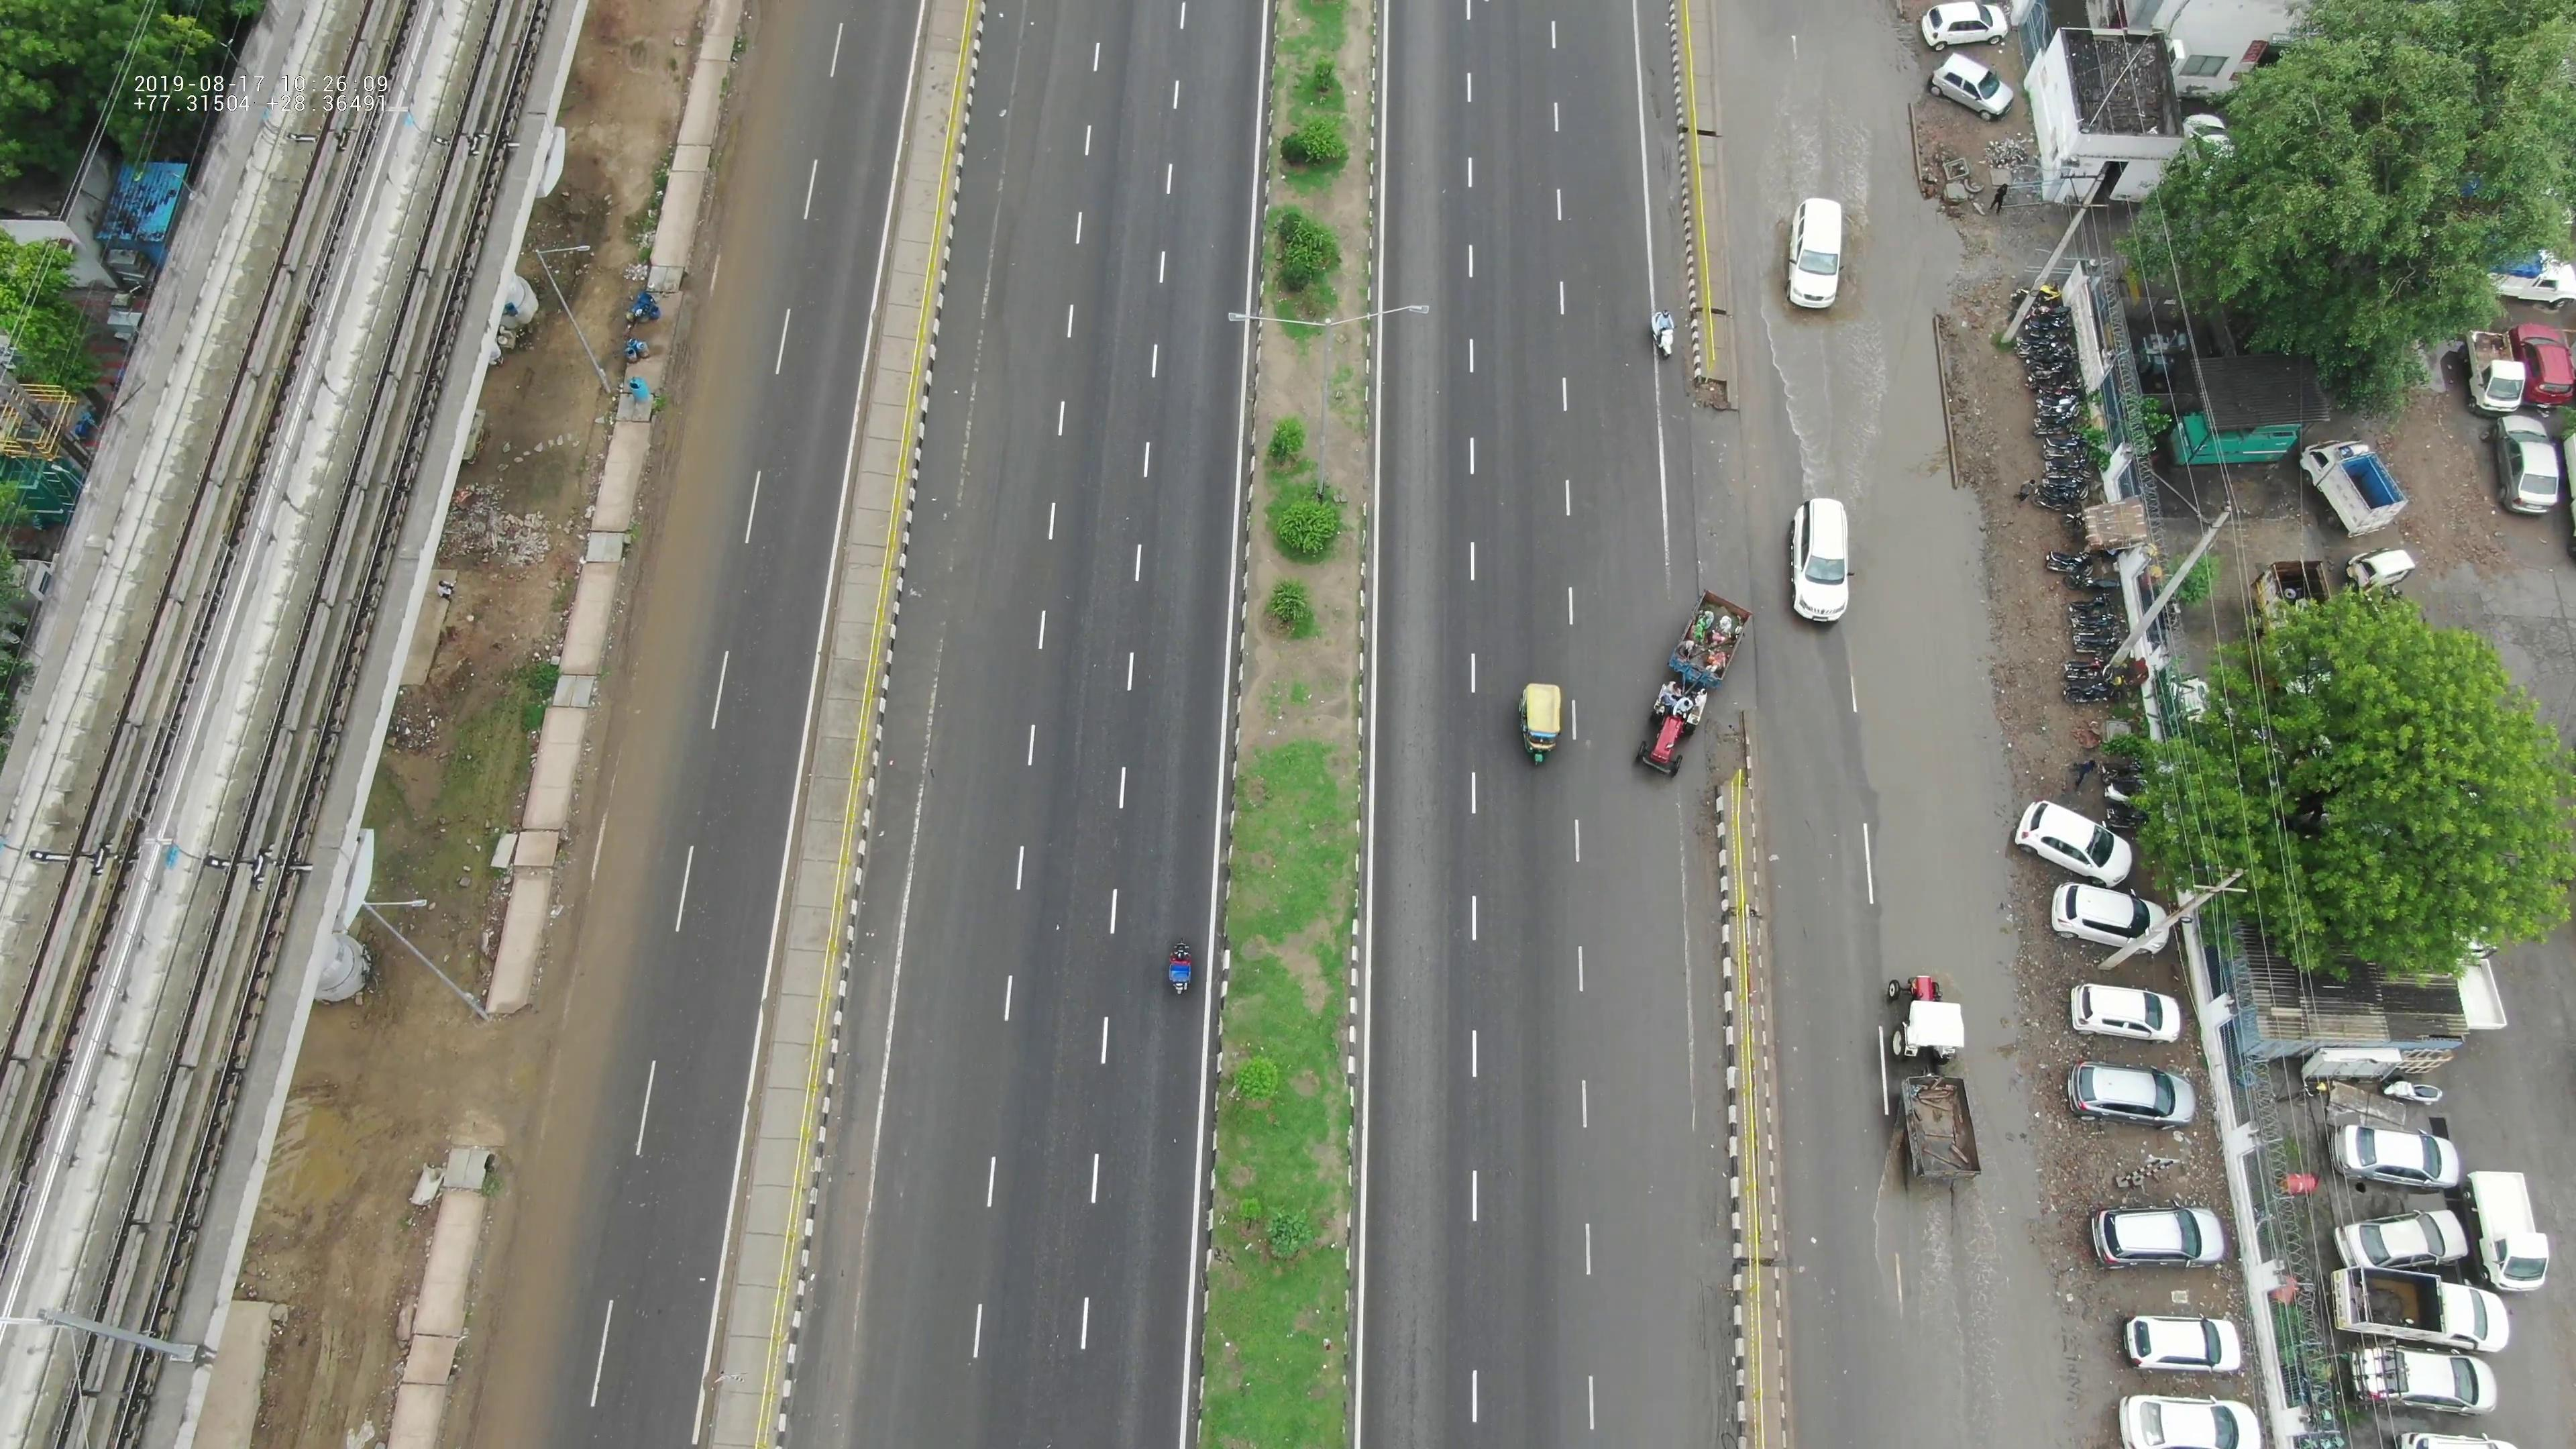Muddy_road: (455, 1127, 594, 1438), (508, 842, 646, 1095), (612, 377, 725, 605), (669, 136, 773, 357), (571, 633, 692, 809)
Waterlogging: (1720, 50, 1971, 623), (1859, 731, 2008, 991), (1930, 1192, 2068, 1430)
